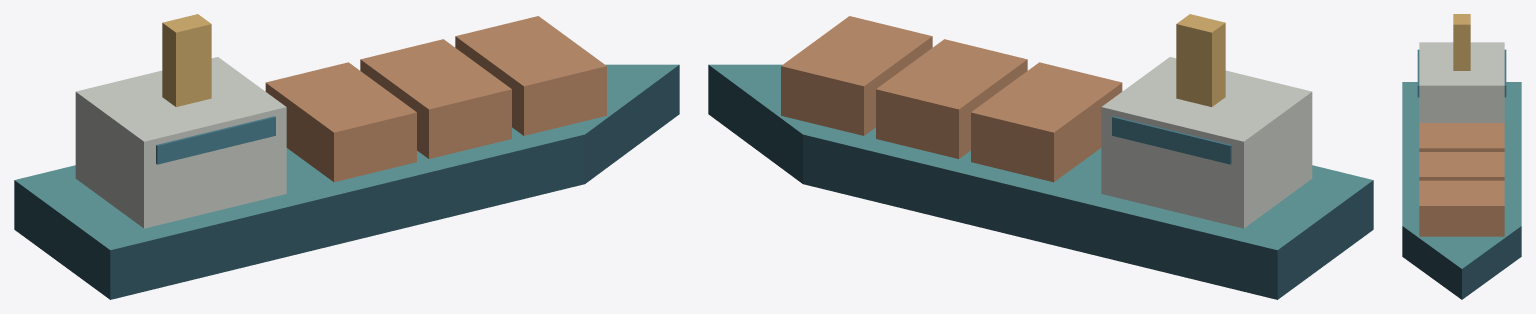
Rendered from ship.glb.
3 views of the same model, side by side, from view 1: azimuth 30°, elevation 25°; view 2: azimuth 150°, elevation 25°; view 3: azimuth 270°, elevation 25° (orthographic). The views are drawn at different scales.
Bounding box in the file's own units: 52 × 17 × 14.
